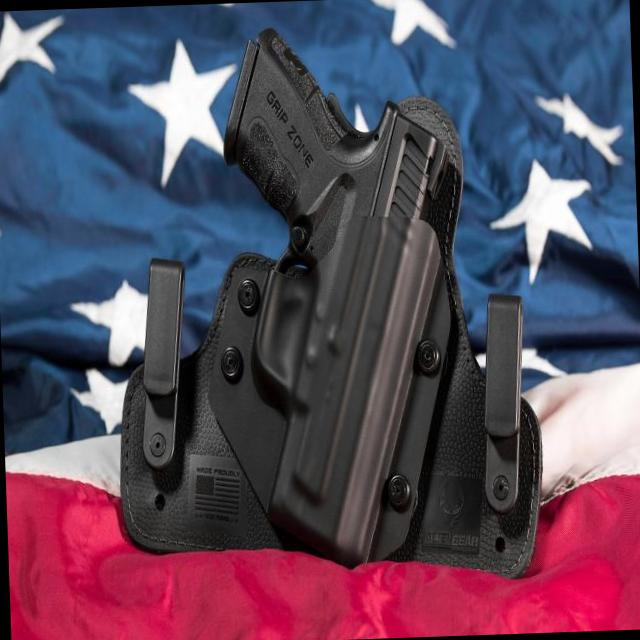Gun: (225, 30, 450, 563)
